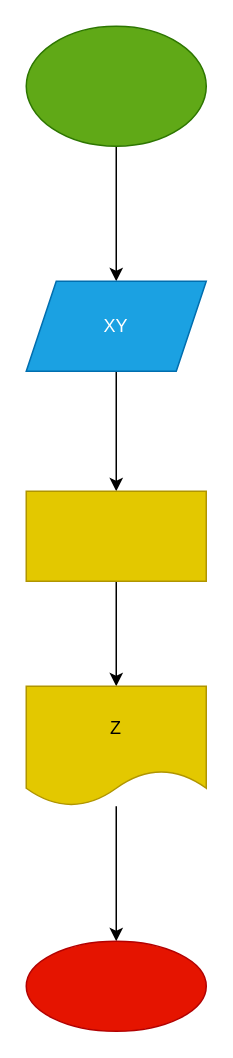
Image size: 233x1058. Some labels were removed from this diagram. Each missing label, with the box of its shape:
INICIO: (25, 25, 206, 146)
Z = YX: (25, 490, 206, 581)
